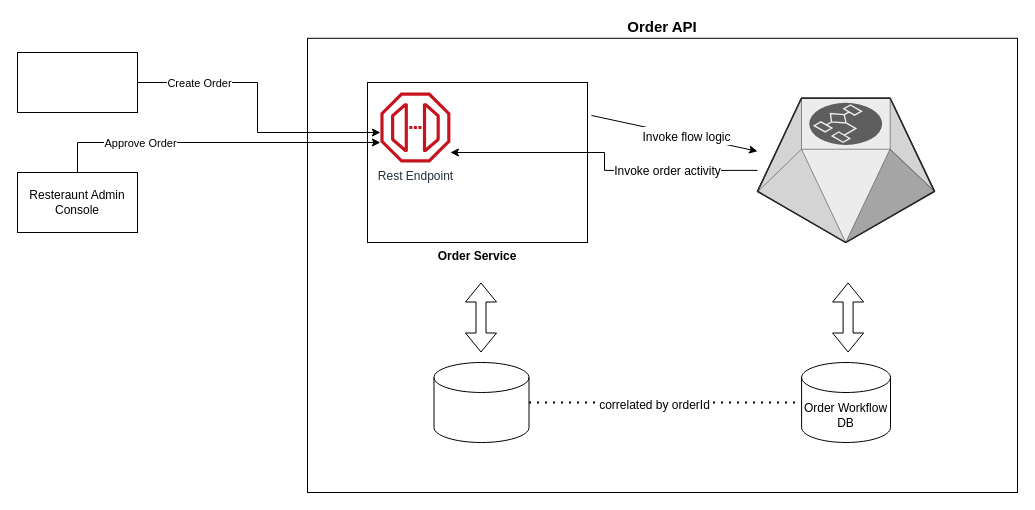
Image size: 1035x510. Some labels were removed from this diagram. Here are the shapes that lost their labels. From the top down, the centre of each, then its label:
At (77,82): "Consumer System".
At (845,169): "Order Workflow Engine".
At (481,402): "Order DB".
